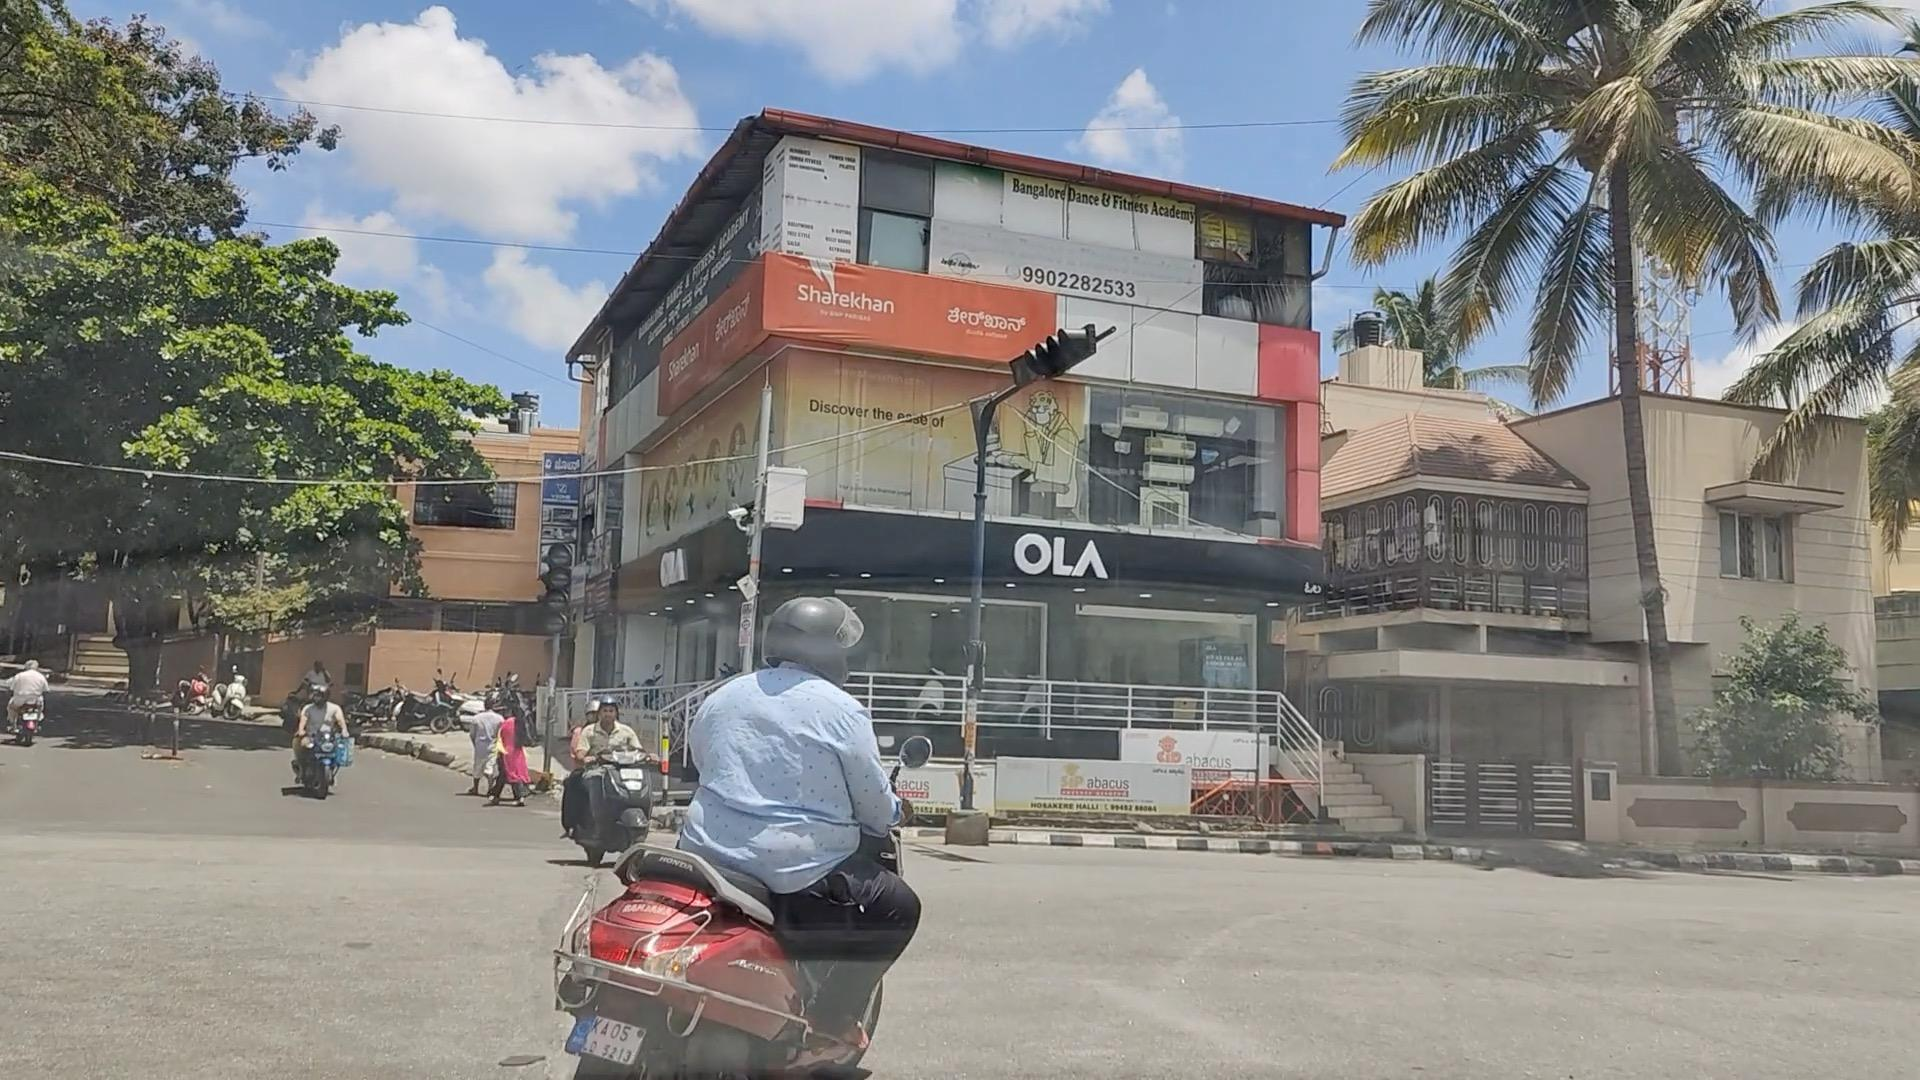LMV: (600, 707, 1009, 1075)
